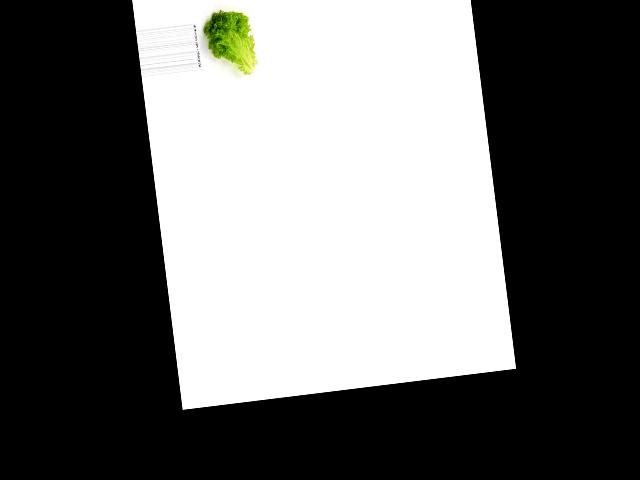lettuce: (201, 4, 260, 79)
